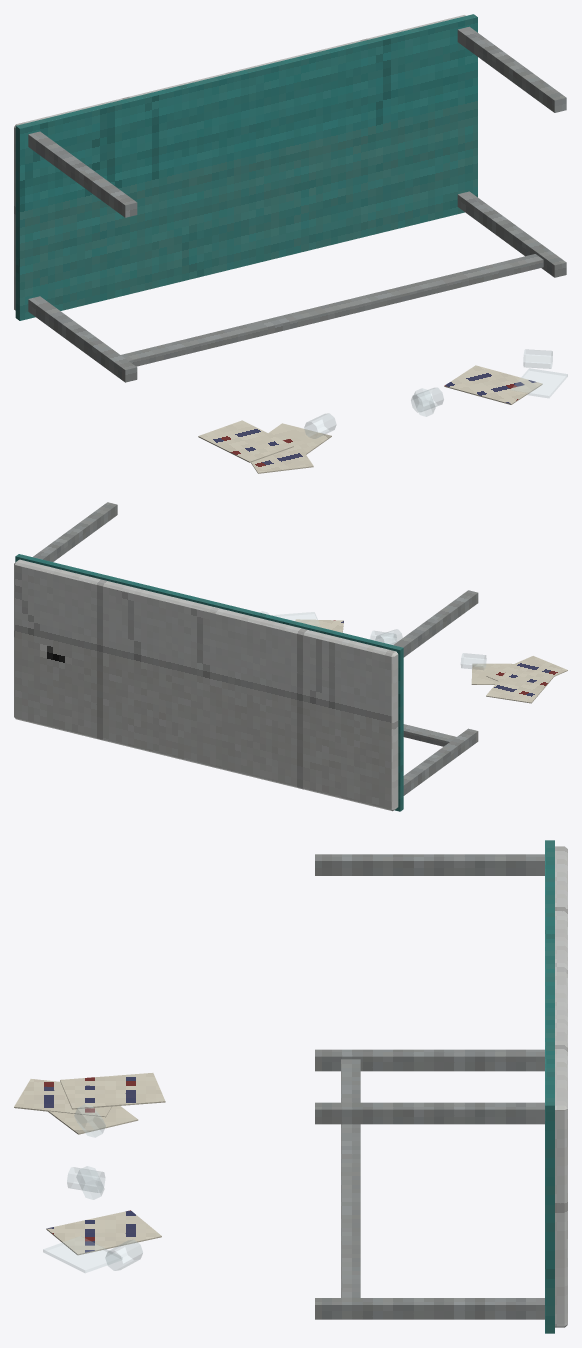
File: table_flipped.glb
3 views of the same model, one above another, from view 1: azimuth 30°, elevation 25°; view 2: azimuth 150°, elevation 25°; view 3: azimuth 270°, elevation 25° (orthographic). The views are drawn at different scales.
Visible parts, largest first — view 1: body; view 2: body; view 3: body.
Boxes of the visible parts, left/top/right/bottom form: body: left=14, top=14, right=567, bottom=473; body: left=14, top=502, right=567, bottom=811; body: left=14, top=840, right=567, bottom=1333.
Bounding box in the file's own units: 1.92 × 0.77 × 1.7.
Materials: 5 (4 with a texture image).
